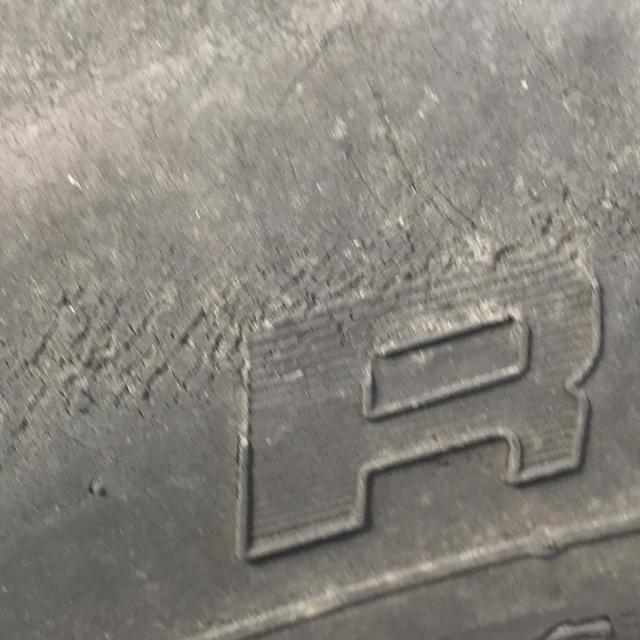Cracks: (0, 55, 640, 477)
